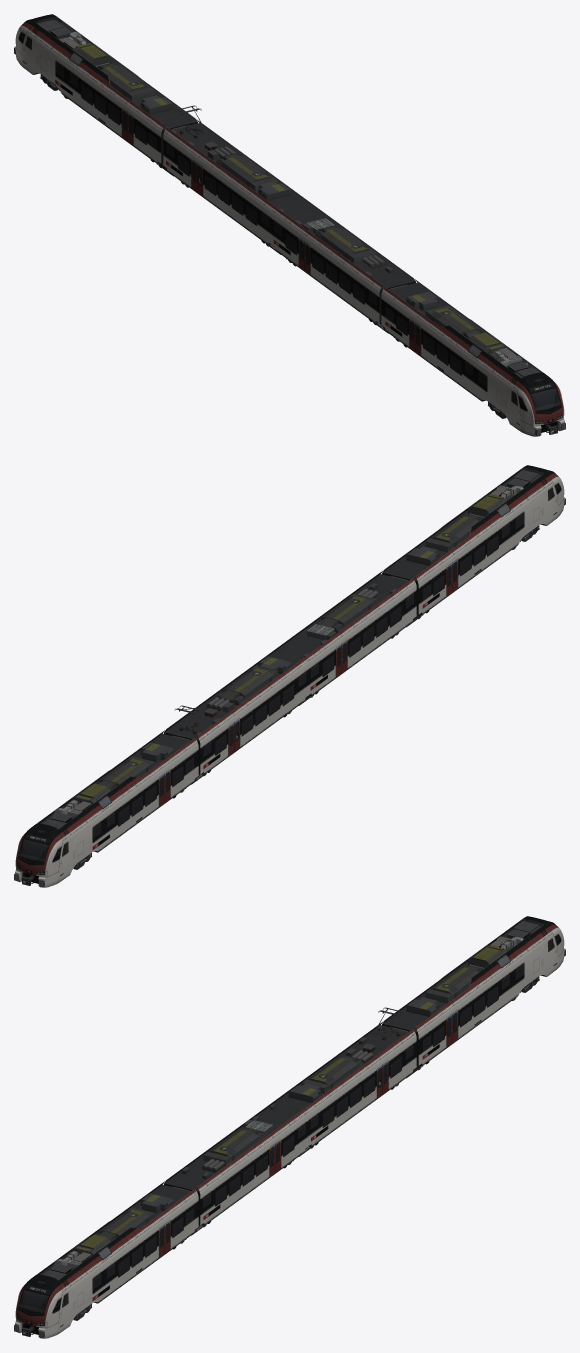
The model's file is FLIRT SBB (4).glb.
3 views of the same model, one above another, from view 1: azimuth 30°, elevation 25°; view 2: azimuth 150°, elevation 25°; view 3: azimuth 330°, elevation 25° (orthographic).
Visible parts, largest first — view 1: 06_body, 00_body, 02_body, 04_body; view 2: 00_body, 06_body, 02_body, 04_body; view 3: 06_body, 00_body, 02_body, 04_body.
Boxes of the visible parts, x1,y1,x2,y2 form: 06_body: (381, 279, 565, 436); 00_body: (14, 14, 197, 163); 02_body: (163, 105, 307, 244); 04_body: (272, 199, 415, 323); 00_body: (14, 730, 198, 887); 06_body: (382, 465, 565, 614); 02_body: (164, 650, 308, 774); 04_body: (272, 571, 416, 695); 06_body: (14, 1181, 198, 1338); 00_body: (382, 916, 565, 1065); 02_body: (272, 1007, 416, 1146); 04_body: (164, 1100, 307, 1225).
Size of the model in its own units: 2.83 by 4.95 by 69.77.
Materials: 3 (3 with a texture image).
